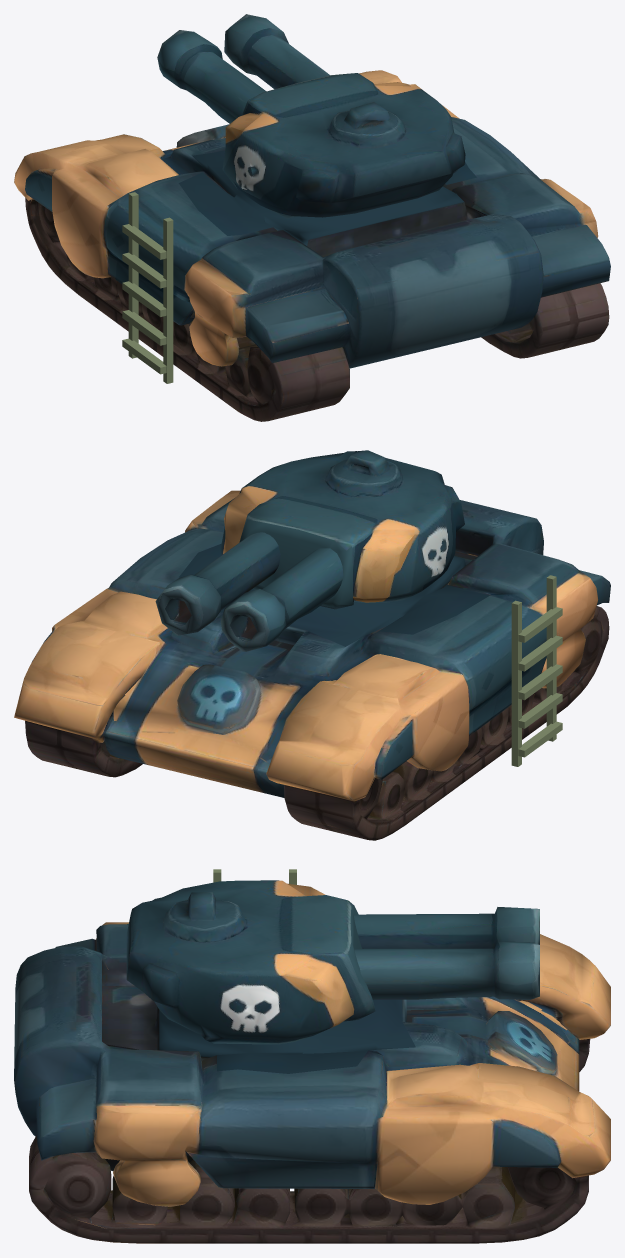
File: heavy_tank.glb
The picture shows the model from 3 angles, top to bottom: view 1: azimuth 30°, elevation 25°; view 2: azimuth 150°, elevation 25°; view 3: azimuth 270°, elevation 25°; orthographic projection. The views are drawn at different scales.
Visible parts, largest first — view 1: HeavyTankHull, HeavyTankTrack_L, HeavyTankTurret, HeavyTankTrack_R, HeavyTankBarrel_L, HeavyTankBarrel_R, HeavyTank_ladder_rung (×5), HeavyTank_ladder_rail (×2); view 2: HeavyTankHull, HeavyTankTrack_L, HeavyTankTurret, HeavyTankTrack_R, HeavyTankBarrel_L, HeavyTankBarrel_R, HeavyTank_ladder_rung (×5), HeavyTank_ladder_rail (×2), HeavyTank_hatch_lid; view 3: HeavyTankTrack_R, HeavyTankHull, HeavyTankTurret, HeavyTankBarrel_R, HeavyTankBarrel_L, HeavyTankTrack_L, HeavyTank_hatch_lid.
Boxes of the visible parts, box(x1,y1,x2,y2) form: HeavyTankHull: box(58, 70, 608, 399); HeavyTankTrack_L: box(14, 140, 349, 421); HeavyTankTurret: box(201, 62, 465, 218); HeavyTankTrack_R: box(359, 70, 610, 357); HeavyTankBarrel_L: box(157, 30, 266, 123); HeavyTankBarrel_R: box(224, 14, 329, 89); HeavyTank_ladder_rung (×5): box(122, 224, 166, 374); HeavyTank_ladder_rail (×2): box(128, 192, 173, 383); HeavyTankHull: box(20, 490, 601, 813); HeavyTankTrack_L: box(268, 573, 610, 840); HeavyTankTurret: box(220, 450, 464, 609); HeavyTankTrack_R: box(14, 521, 196, 776); HeavyTankBarrel_L: box(220, 548, 344, 651); HeavyTankBarrel_R: box(155, 532, 277, 635); HeavyTank_ladder_rung (×5): box(518, 607, 562, 757); HeavyTank_ladder_rail (×2): box(511, 575, 556, 766); HeavyTank_hatch_lid: box(330, 467, 378, 496); HeavyTankTrack_R: box(29, 1078, 610, 1243); HeavyTankHull: box(14, 922, 610, 1197); HeavyTankTurret: box(126, 880, 444, 1044); HeavyTankBarrel_R: box(354, 941, 539, 1009); HeavyTankBarrel_L: box(354, 907, 539, 948); HeavyTankTrack_L: box(55, 934, 610, 1024); HeavyTank_hatch_lid: box(214, 901, 244, 927).
Bounding box in the file's own units: 4.23 × 2.51 × 5.2.
Materials: 9 (2 with a texture image).
